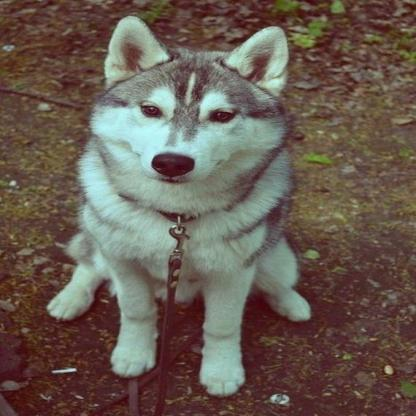husky: (49, 16, 318, 395)
